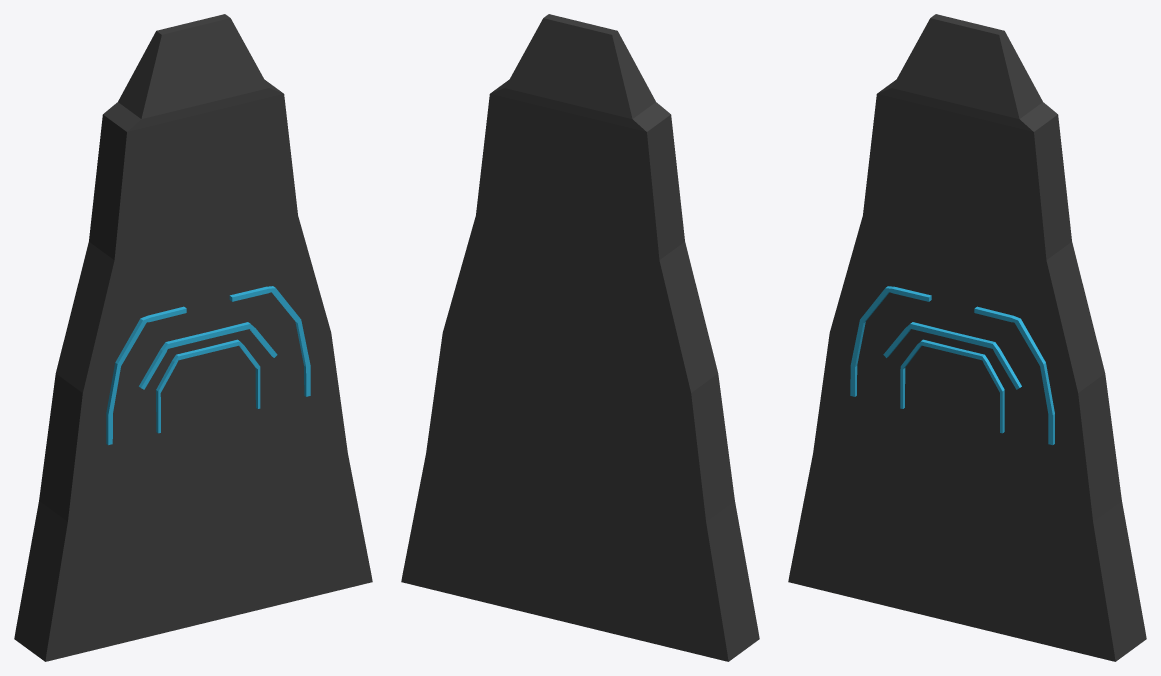
The model's file is runestone_shockwave.fbx.
3 renders of one model, left to right at view 1: azimuth 30°, elevation 25°; view 2: azimuth 150°, elevation 25°; view 3: azimuth 330°, elevation 25°, orthographic.
Parts seen in each view (by area): view 1: runestone_shockwave; view 2: runestone_shockwave; view 3: runestone_shockwave.
Part boxes in pixels (x1,y1,x2,y2): runestone_shockwave: (14, 14, 372, 661); runestone_shockwave: (401, 14, 759, 661); runestone_shockwave: (788, 14, 1146, 661).
Size of the model in its own units: 156 by 266 by 25.93.
